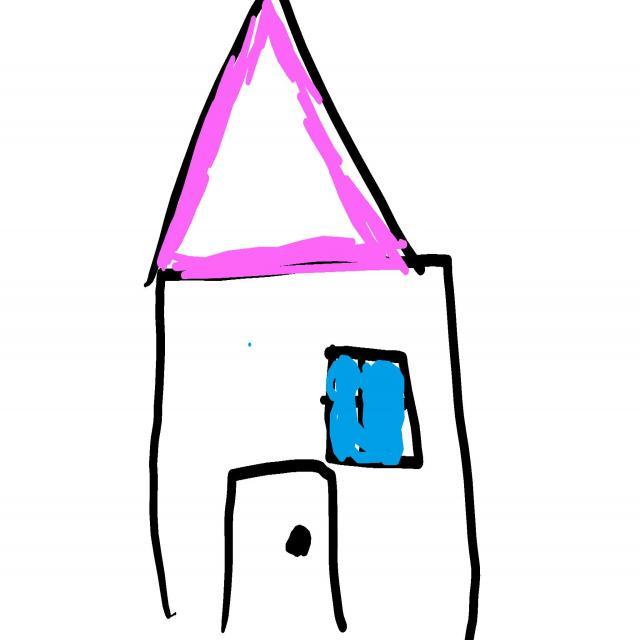door: (221, 474, 343, 640)
house: (145, 0, 481, 640)
roof: (146, 0, 409, 284)
wall: (150, 268, 480, 640)
window: (321, 346, 424, 470)
